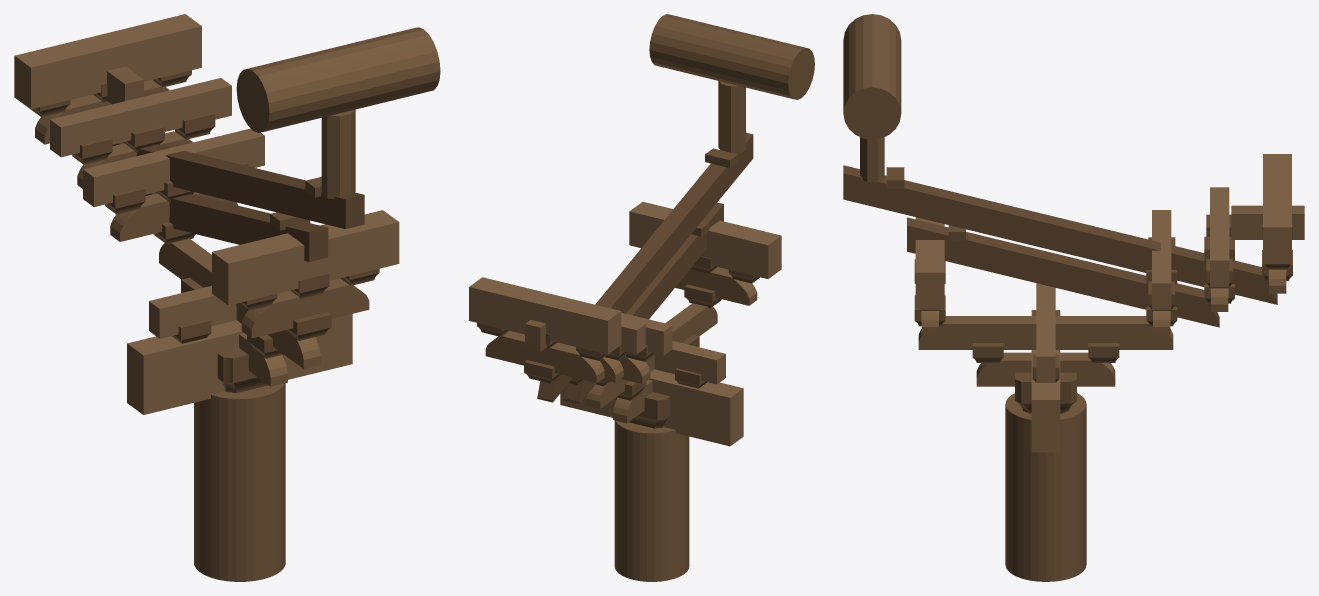
File: puzuo-bujian-01.fbx
The picture shows the model from 3 angles, left to right: view 1: azimuth 30°, elevation 25°; view 2: azimuth 150°, elevation 25°; view 3: azimuth 270°, elevation 25°; orthographic projection. The views are drawn at different scales.
Visible parts, largest first — view 1: 01_瓜棱柱, 47_下平槫, 38_撩檐枋, 43_平棊枋, 02_阑额（月梁）, 31_下昂二（四跳）, 30_罗汉枋（三跳）, 17_罗汉枋（二跳）, 24_下昂一（三跳）, 19_瓜子拱（二跳）, 11_华栱二（二跳）, 44_蜀柱 (+14 smaller); view 2: 01_瓜棱柱, 47_下平槫, 38_撩檐枋, 31_下昂二（四跳）, 02_阑额（月梁）, 43_平棊枋, 24_下昂一（三跳）, 33_令拱, 11_华栱二（二跳）, 07_柱头枋（下）, 44_蜀柱, 19_瓜子拱（二跳） (+10 smaller); view 3: 01_瓜棱柱, 31_下昂二（四跳）, 24_下昂一（三跳）, 11_华栱二（二跳）, 47_下平槫, 38_撩檐枋, 08_华栱一（一跳）, 02_阑额（月梁）, 43_平棊枋, 30_罗汉枋（三跳）, 07_柱头枋（下）, 17_罗汉枋（二跳） (+5 smaller).
Part boxes in pixels (box(x1,y1,x2,y2)): 01_瓜棱柱: box(194, 383, 285, 581); 47_下平槫: box(236, 27, 440, 132); 38_撩檐枋: box(14, 14, 201, 109); 43_平棊枋: box(212, 210, 399, 305); 02_阑额（月梁）: box(127, 314, 352, 414); 31_下昂二（四跳）: box(112, 142, 364, 229); 30_罗汉枋（三跳）: box(50, 78, 231, 157); 17_罗汉枋（二跳）: box(83, 128, 264, 206); 24_下昂一（三跳）: box(145, 192, 328, 261); 19_瓜子拱（二跳）: box(241, 278, 369, 338); 11_华栱二（二跳）: box(159, 238, 320, 368); 44_蜀柱: box(321, 109, 355, 198); 01_瓜棱柱: box(614, 420, 689, 581); 47_下平槫: box(649, 14, 814, 99); 38_撩檐枋: box(469, 277, 621, 354); 31_下昂二（四跳）: box(537, 132, 753, 402); 02_阑额（月梁）: box(560, 369, 743, 446); 43_平棊枋: box(629, 202, 781, 278); 24_下昂一（三跳）: box(564, 202, 723, 403); 33_令拱: box(485, 330, 604, 383); 11_华栱二（二跳）: box(586, 303, 717, 408); 07_柱头枋（下）: box(654, 341, 725, 384); 44_蜀柱: box(718, 81, 745, 153); 19_瓜子拱（二跳）: box(675, 267, 757, 305); 01_瓜棱柱: box(1005, 393, 1086, 581); 31_下昂二（四跳）: box(843, 165, 1277, 304); 24_下昂一（三跳）: box(907, 217, 1219, 327); 11_华栱二（二跳）: box(918, 316, 1173, 349); 47_下平槫: box(843, 14, 901, 139); 38_撩檐枋: box(1263, 154, 1291, 264); 08_华栱一（一跳）: box(976, 352, 1115, 386); 02_阑额（月梁）: box(1031, 310, 1060, 452); 43_平棊枋: box(915, 217, 944, 309); 30_罗汉枋（三跳）: box(1210, 187, 1229, 286); 07_柱头枋（下）: box(1036, 283, 1055, 382); 17_罗汉枋（二跳）: box(1152, 210, 1171, 309).
Size of the model in its own units: 1.58 by 4.21 by 3.43.
